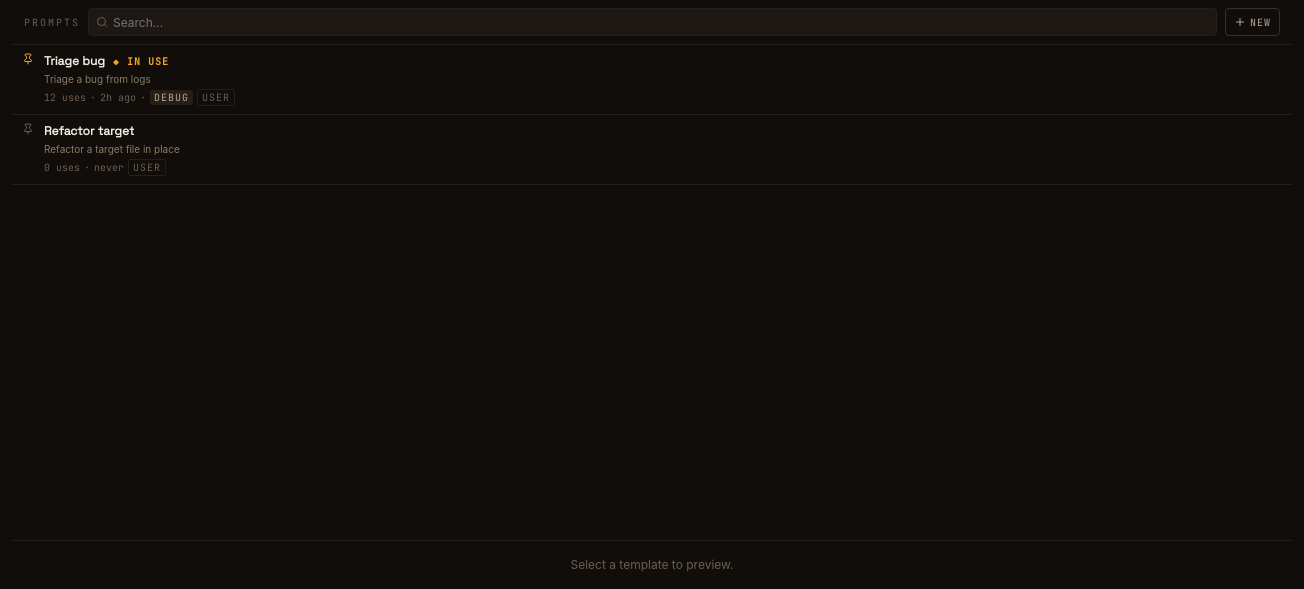
PromptsInspector › filters by case-insensitive search
Type "TRIAGE" into the field named "Search templates".
click(652, 22); type("TRIAGE")  # box 88,8 -> 1217,36
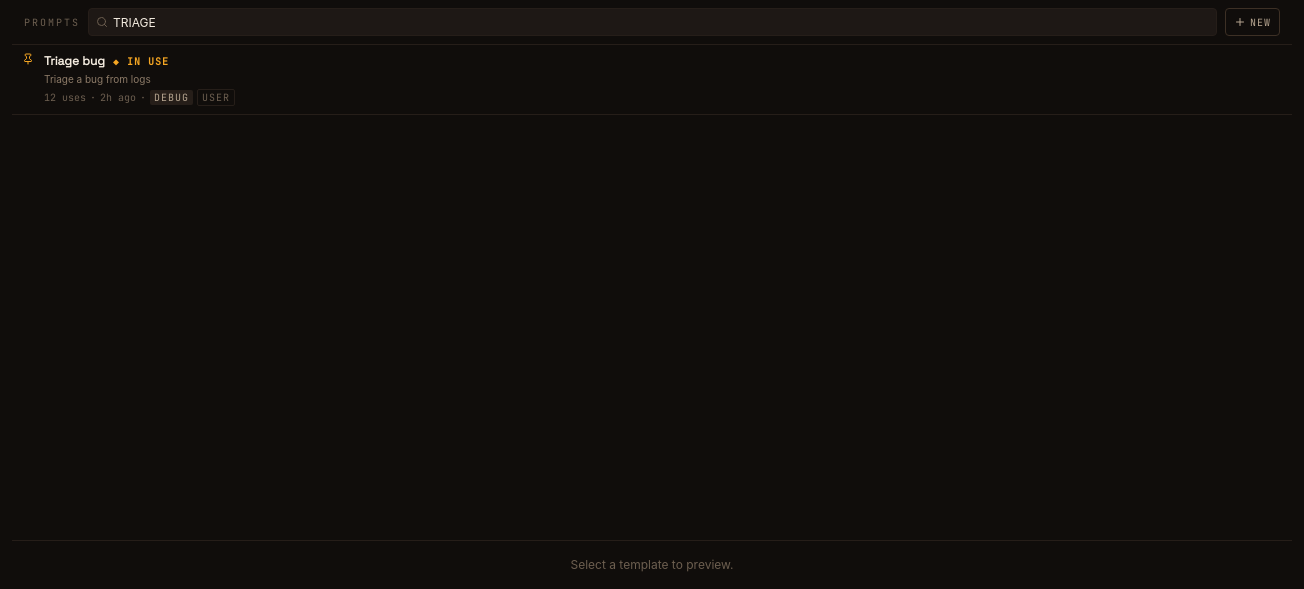
Expected: the text "Triage bug" is shown, 44,53 -> 105,69
Expected: the button "Refactor target" is gone
